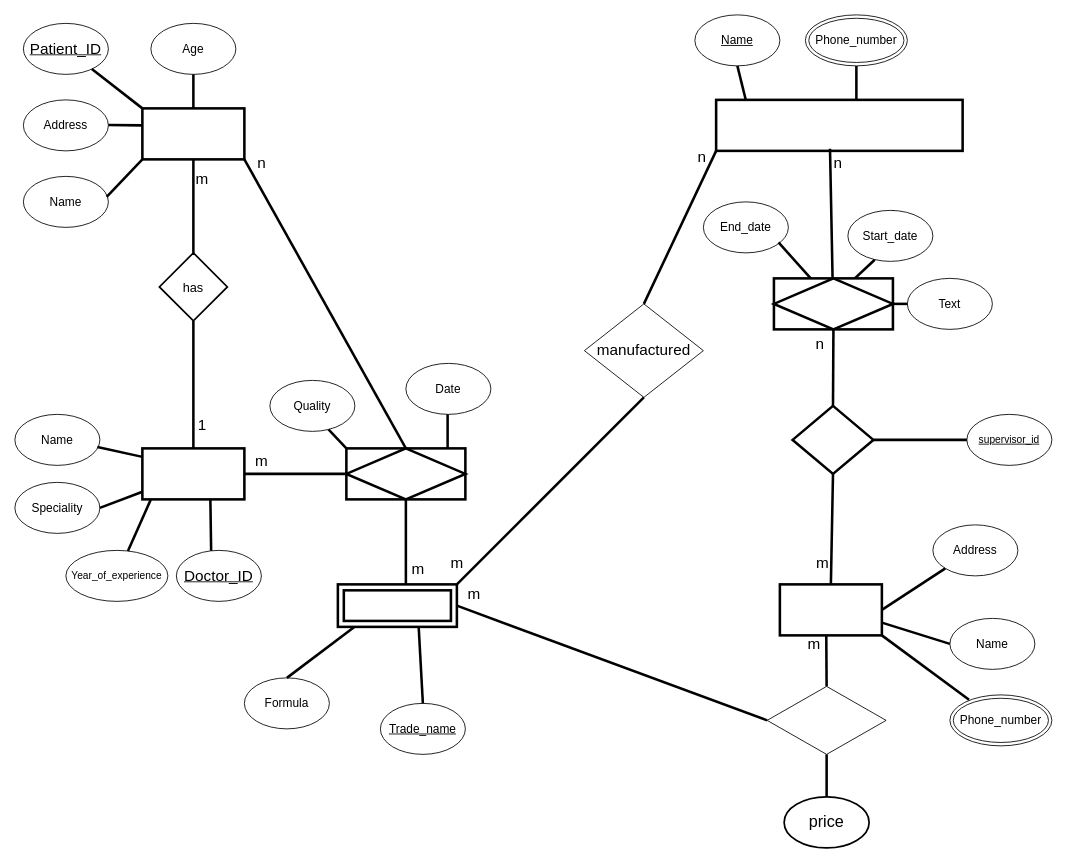
The diagram is 1067 pixels wide and 864 high, and some of its shapes have lost their labels. The shapes that lost their labels are listed below. From the top down, each one's box as (x1, y1, x2, y2) in pixels, then its label:
(141, 107, 245, 160): Patient
(714, 98, 963, 152): pharmaceutical company
(772, 277, 894, 330): Contract
(791, 404, 874, 475): apointed
(141, 447, 245, 500): Doctor
(345, 447, 466, 500): Prescribe
(336, 583, 458, 628): Drug
(778, 583, 883, 636): Pharmacy
(766, 686, 886, 754): Sold
